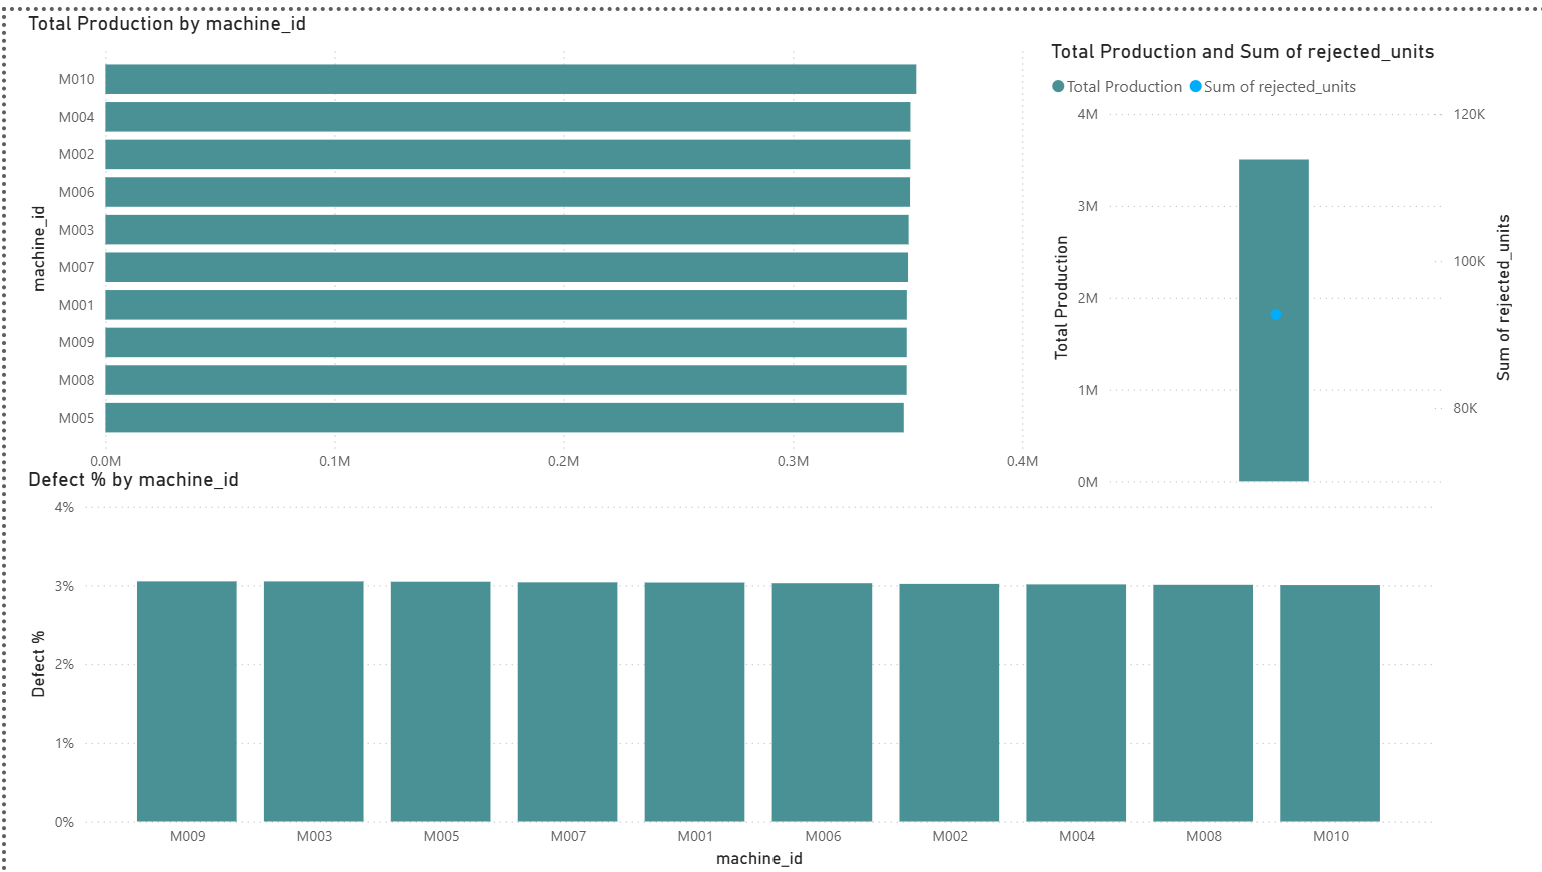

The dashboard page shown, as its layout file describes it:
{"tool":"powerbi","page":{"name":"Production & Quality Analytics","canvas":[1280,720],"ordinal":3},"visuals":[{"type":"clusteredBarChart","fields":{"Category":["public production.machine_id"],"Y":["public production.Total Production"]},"box":[13.3,0,851.7,406.7],"z":0},{"type":"clusteredColumnChart","fields":{"Category":["public production.machine_id"],"Y":["public quality.Defect %"]},"box":[13.3,380.6,1179.6,338.9],"z":1000},{"type":"lineStackedColumnComboChart","fields":{"Y":["public production.Total Production"],"Y2":["Sum(public quality.rejected_units)"]},"box":[865.3,22.7,393.8,382.5],"z":2000}]}

Visuals, with their boxes in screenshot pixels (x1, y1, x2, y2), scaled from the page's 1280x720 canvas onto the 1542x872 screenshot:
clusteredBarChart - public production.machine_id x public production.Total Production: 16,0,1042,493
clusteredColumnChart - public production.machine_id x public quality.Defect %: 16,461,1437,871
lineStackedColumnComboChart - public production.Total Production x Sum(public quality.rejected_units): 1042,27,1517,491
